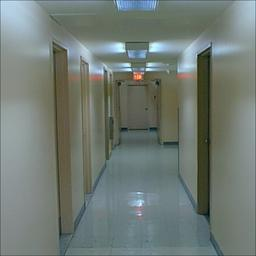Puerta: (53, 44, 72, 244), (199, 54, 211, 218), (128, 84, 145, 128)
